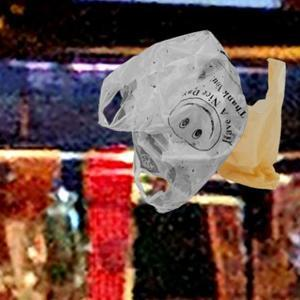plastic_bag: (95, 27, 250, 214)
